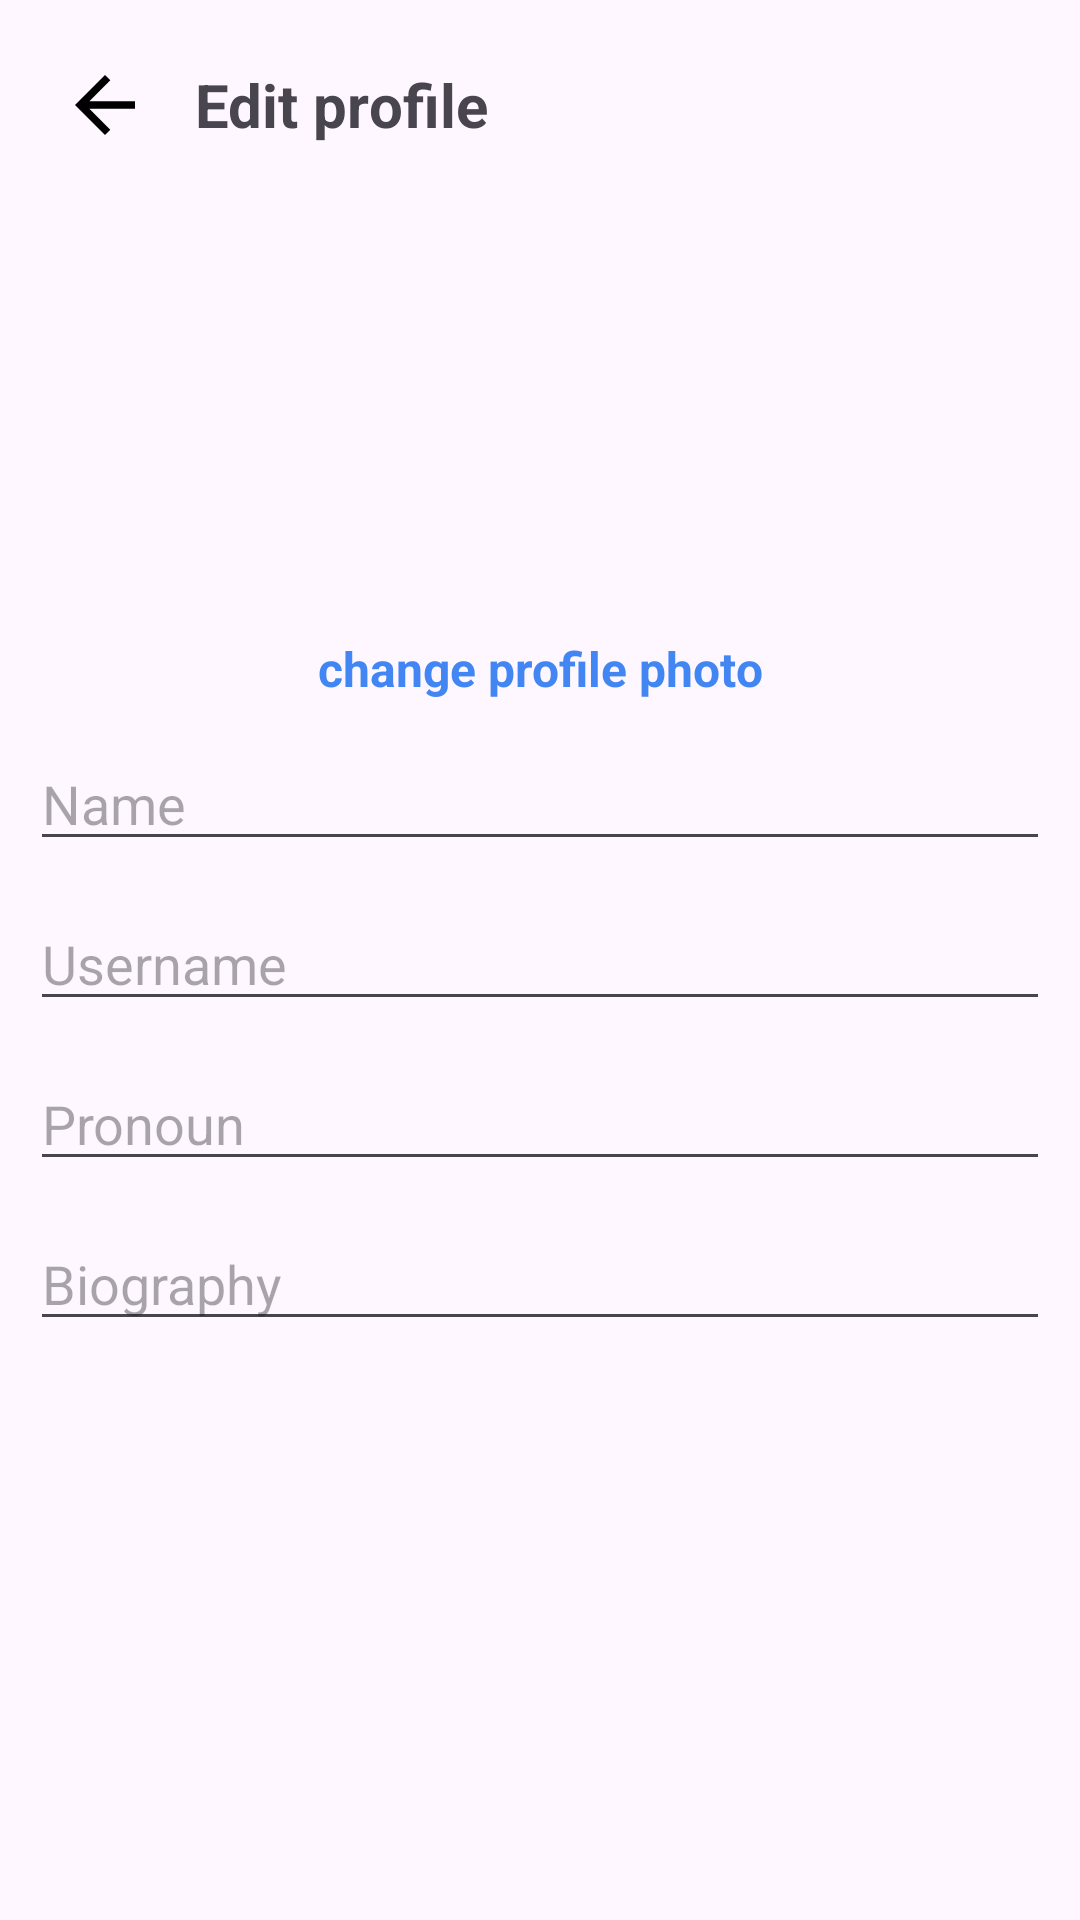

Screen size 1080x1920. Icon name, then its center in pixels as (x=x, y=y):
arrow back: (x=105, y=105)
